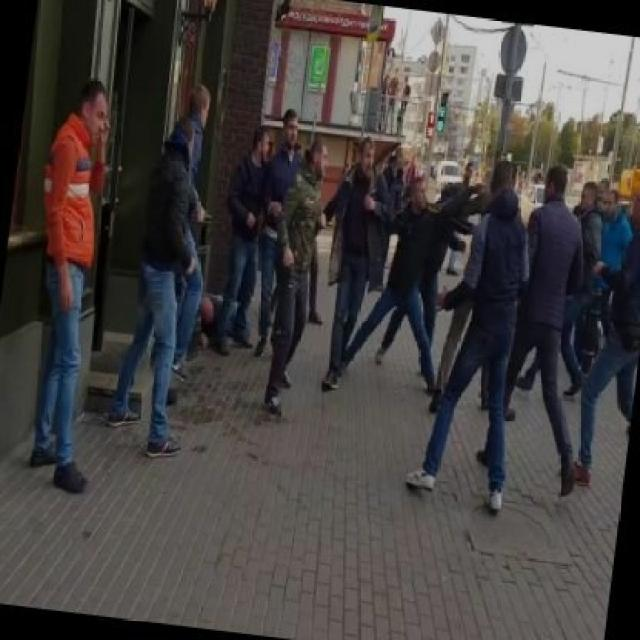fight: (408, 157, 593, 521), (323, 152, 535, 414), (229, 104, 396, 424)
non-fight: (0, 66, 132, 498), (566, 172, 639, 512)
